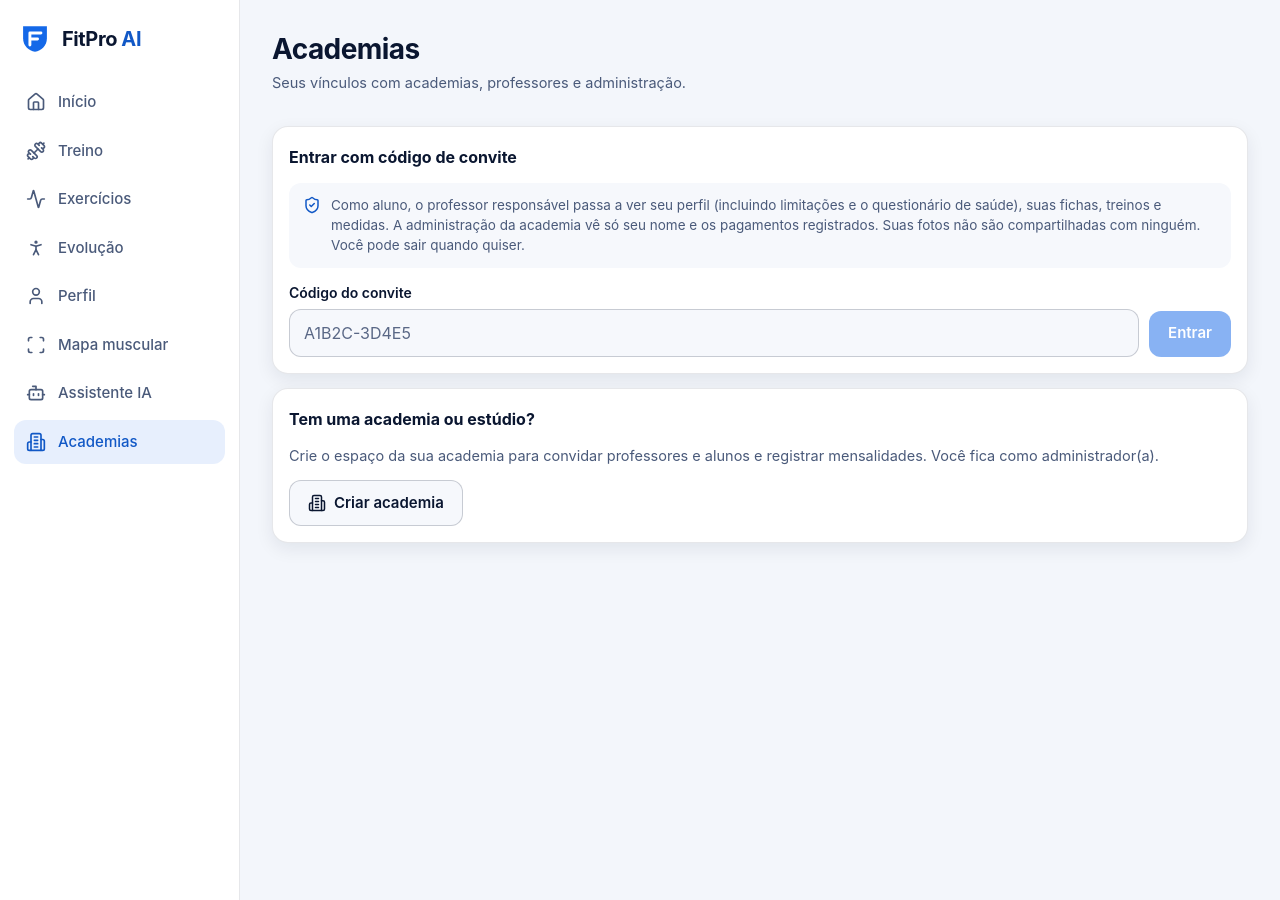
Test case: academias e painéis › entra com código de convite (normalizado) e mostra o vínculo com o professor
Type "xyz" into the field labelled "Código do convite" at (714, 332), box left=289, top=308, right=1139, bottom=356
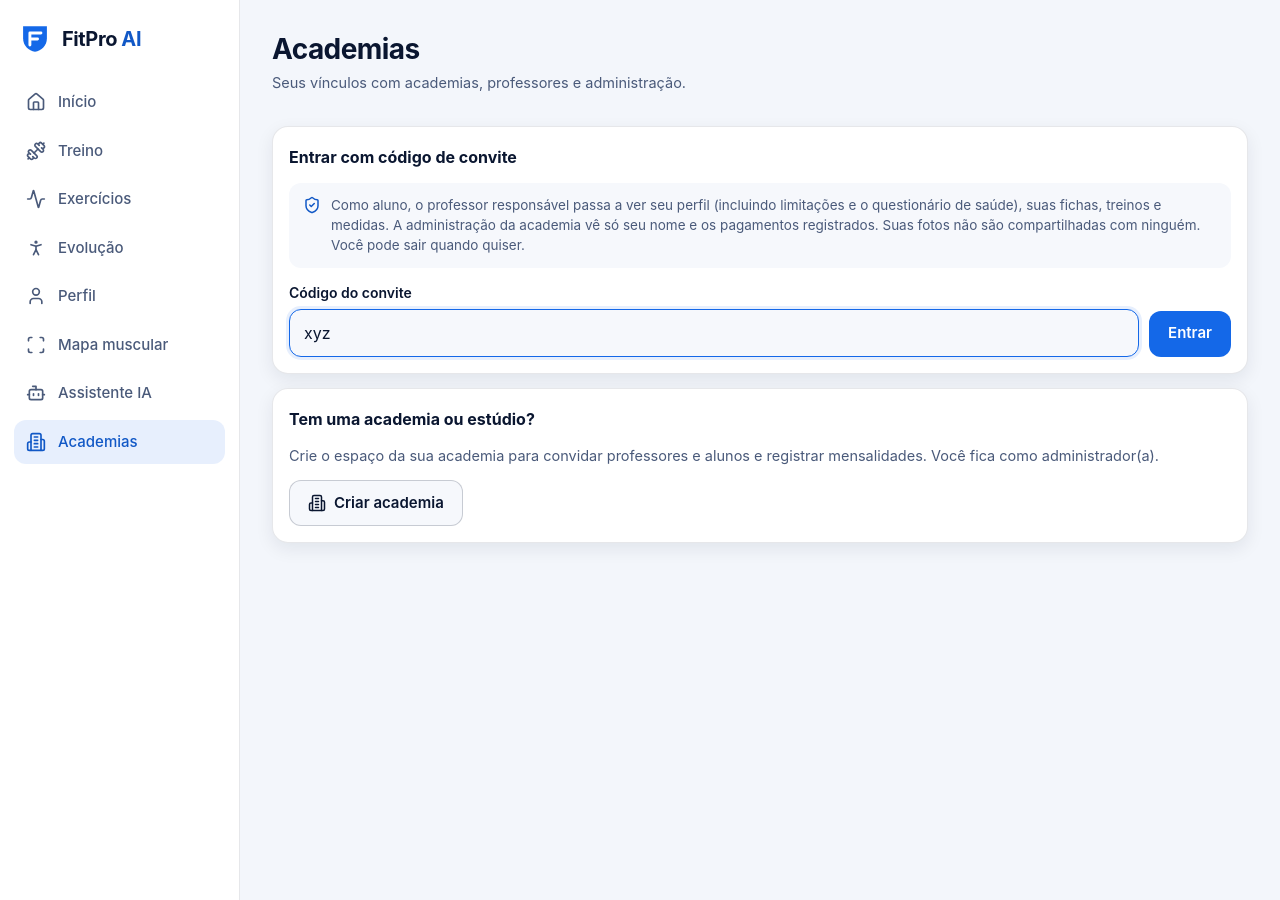
Click the button "Entrar" at (1190, 334), box left=1149, top=310, right=1231, bottom=356
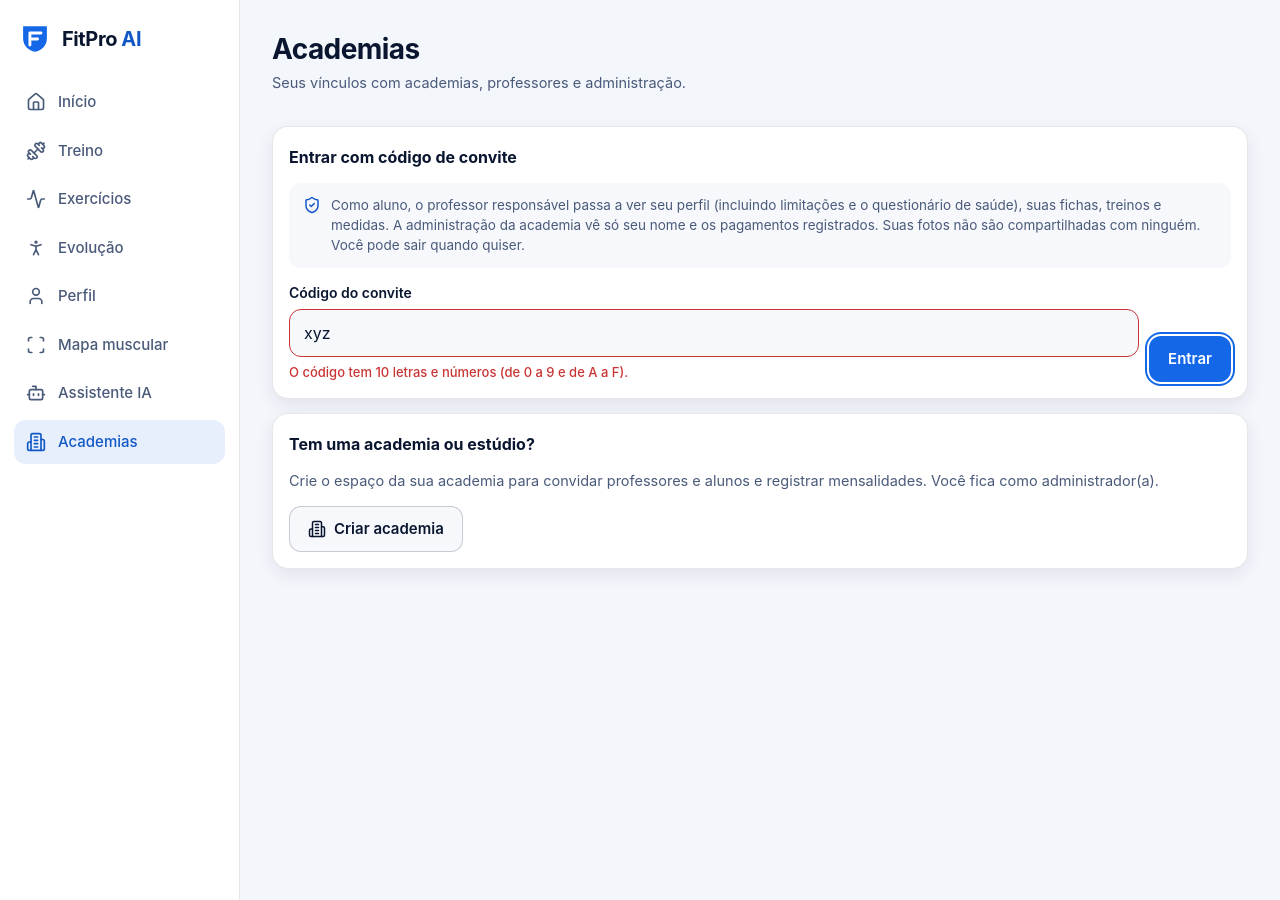
Check: the text "O código tem 10 letras e números (de 0 a 9 e de A a F)." is shown, box left=289, top=364, right=628, bottom=380
Replace the text in the field labelled "Código do convite" with "a1b2c-3d4e5" at (714, 332), box left=289, top=308, right=1139, bottom=356
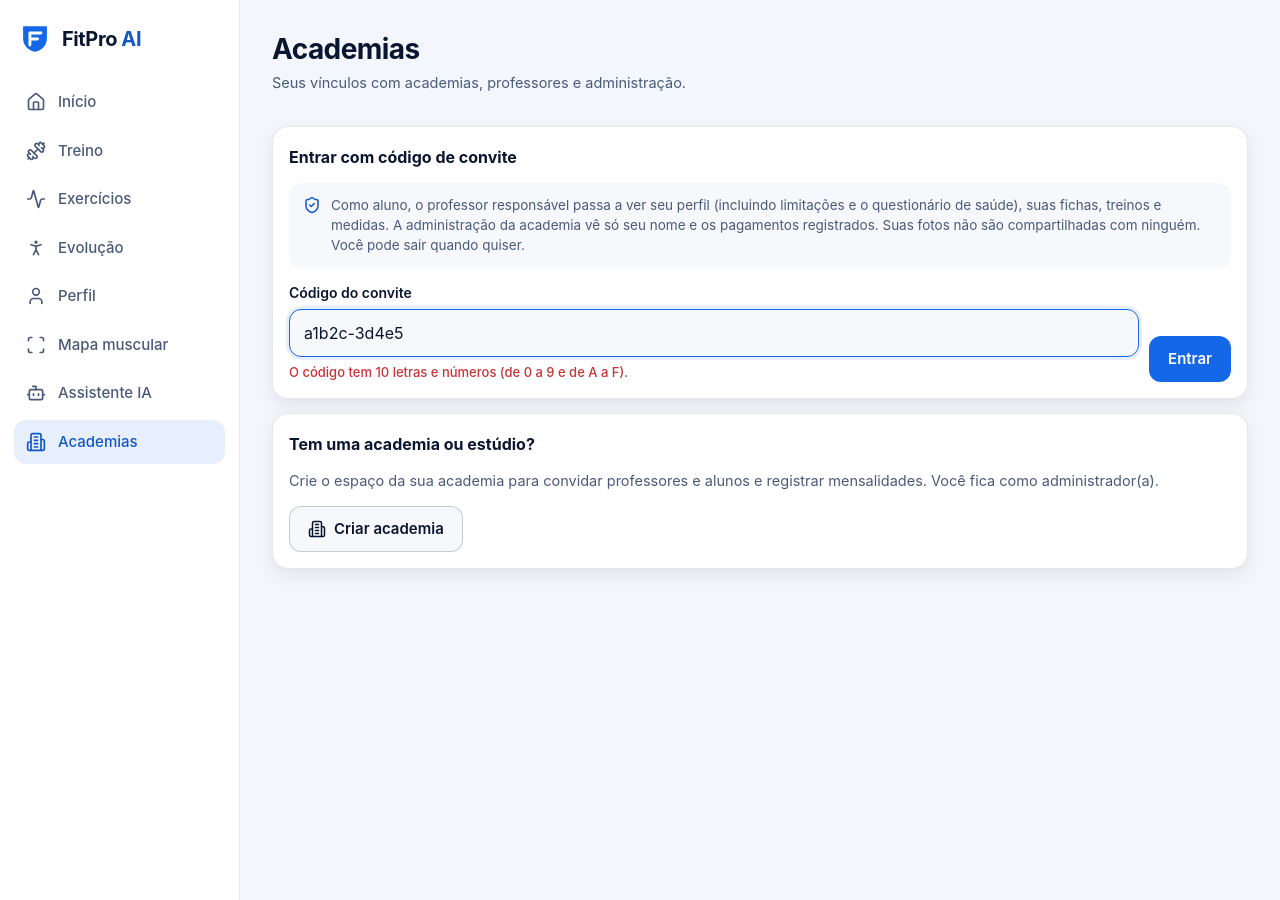
Click the button "Entrar" at (1190, 359), box left=1149, top=336, right=1231, bottom=382
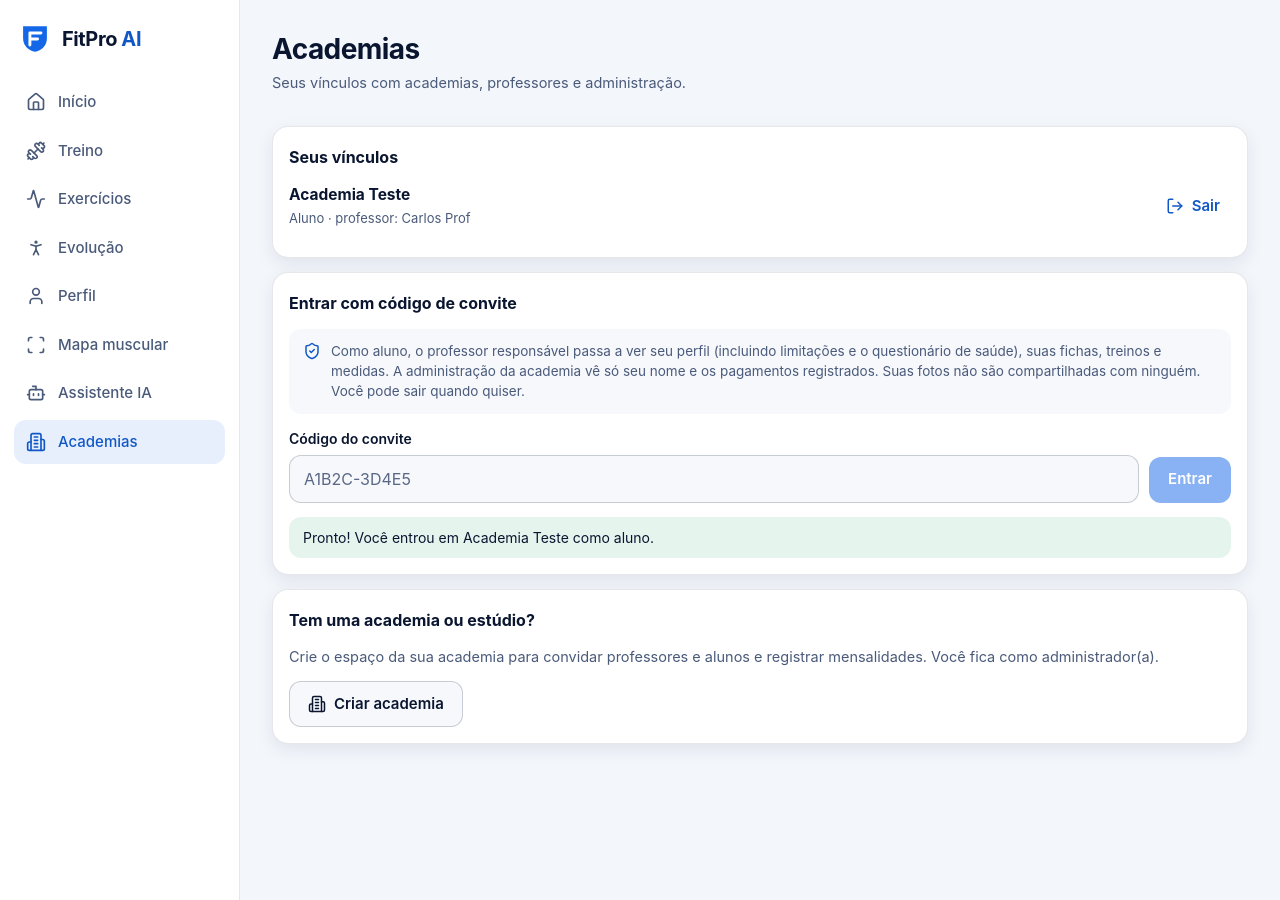
Check: the text "Pronto! Você entrou em Academia Teste como aluno." is shown, box left=289, top=516, right=1231, bottom=558
Check: the text "Aluno · professor: Carlos Prof" is shown, box left=289, top=210, right=470, bottom=226
// sair pede confirmação e explica a consequência
Click the button with aria-label "Sair de Academia Teste" at (1193, 206), box left=1155, top=183, right=1231, bottom=229
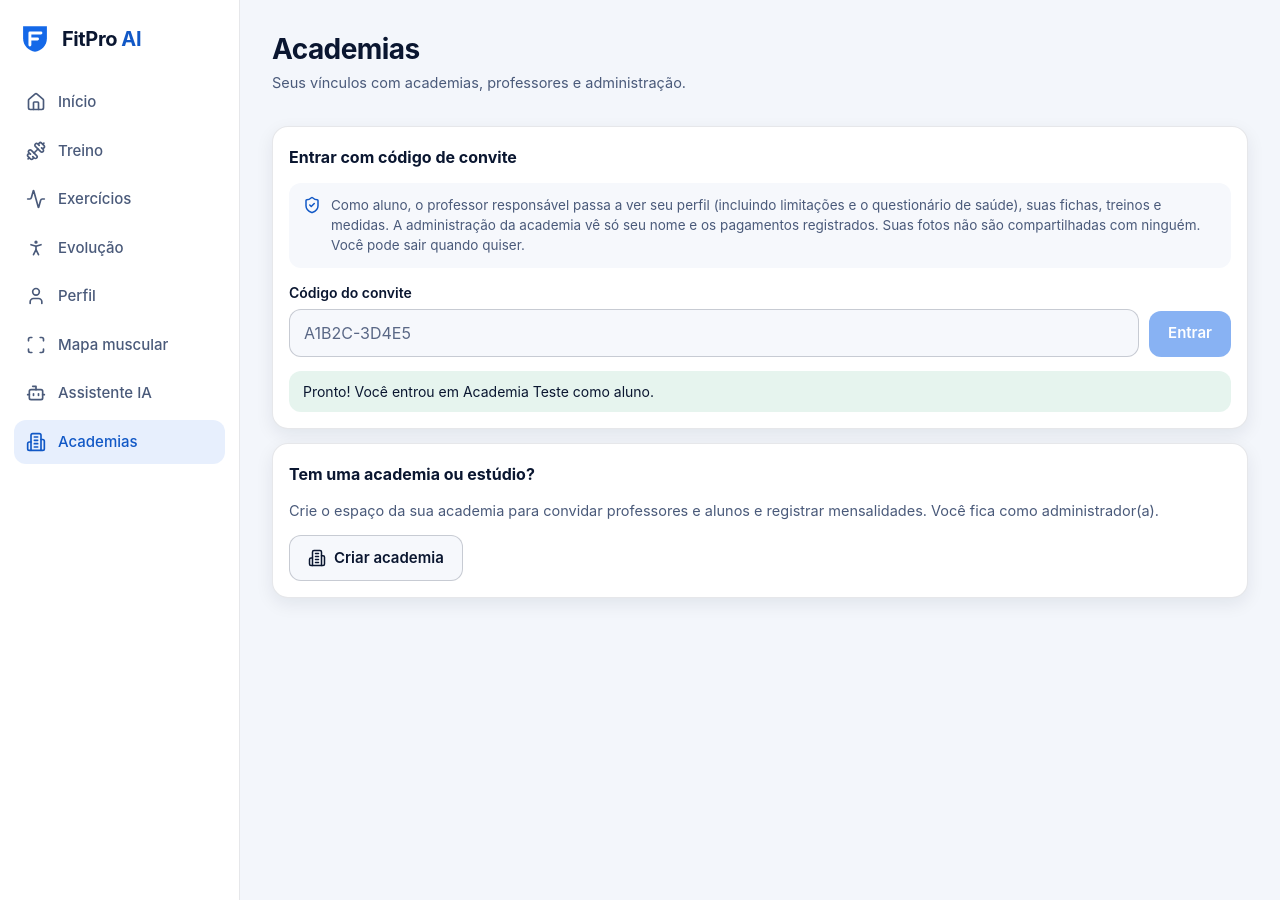
Check: the text "professor: Carlos Prof" is gone
